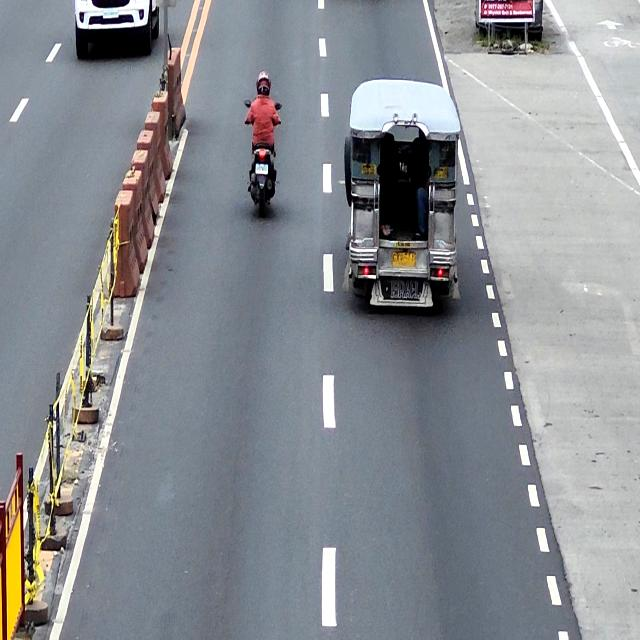Jeep: (343, 80, 462, 308)
License-Plate: (392, 252, 416, 268), (255, 164, 268, 174)
Motorcycle: (244, 98, 283, 217)
